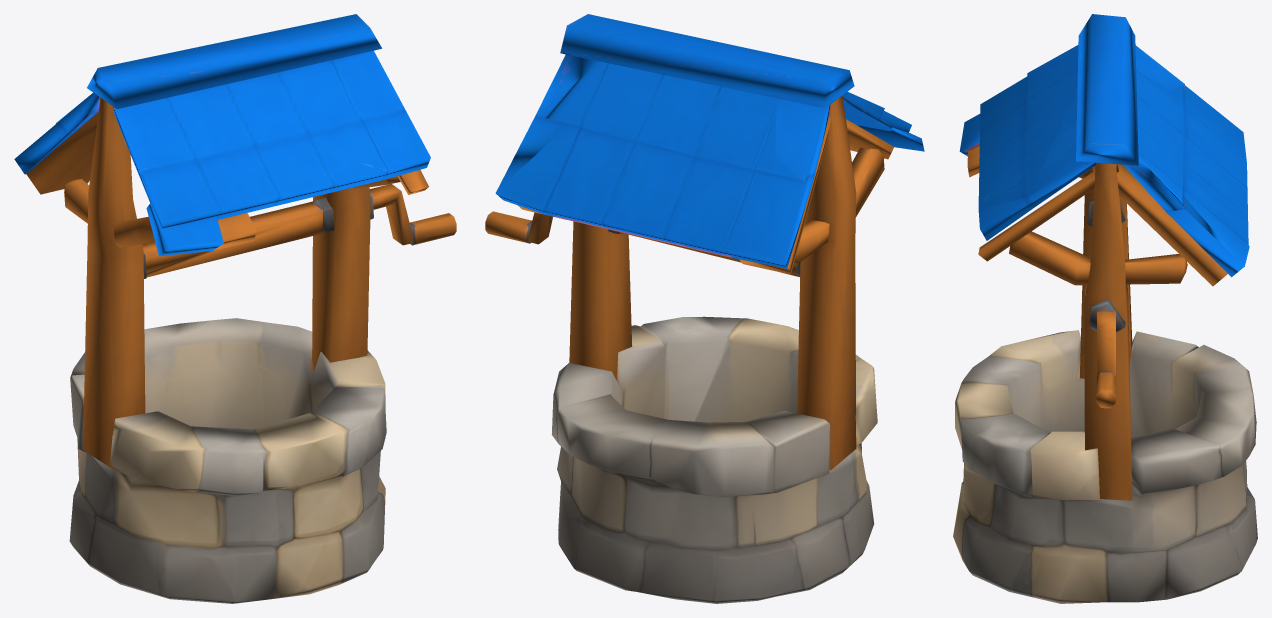
File: medival_well.glb
3 views of the same model, side by side, from view 1: azimuth 30°, elevation 25°; view 2: azimuth 150°, elevation 25°; view 3: azimuth 270°, elevation 25° (orthographic). The views are drawn at different scales.
Visible parts, largest first — view 1: geometry_0; view 2: geometry_0; view 3: geometry_0.
Part boxes in pixels (x1,y1,x2,y2): geometry_0: (14, 14, 456, 603); geometry_0: (485, 14, 924, 603); geometry_0: (953, 14, 1257, 603).
Bounding box in the file's own units: 0.7393 × 0.9531 × 0.5596.
1 material, 1 textured.
